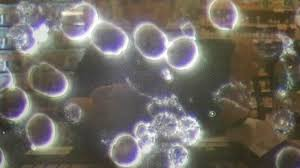Malaria: (28, 61, 70, 97), (134, 24, 168, 60), (61, 3, 95, 38), (93, 22, 125, 56), (205, 1, 240, 32), (109, 135, 145, 165), (26, 112, 55, 147), (168, 36, 199, 68), (1, 85, 27, 116), (273, 145, 300, 167)
